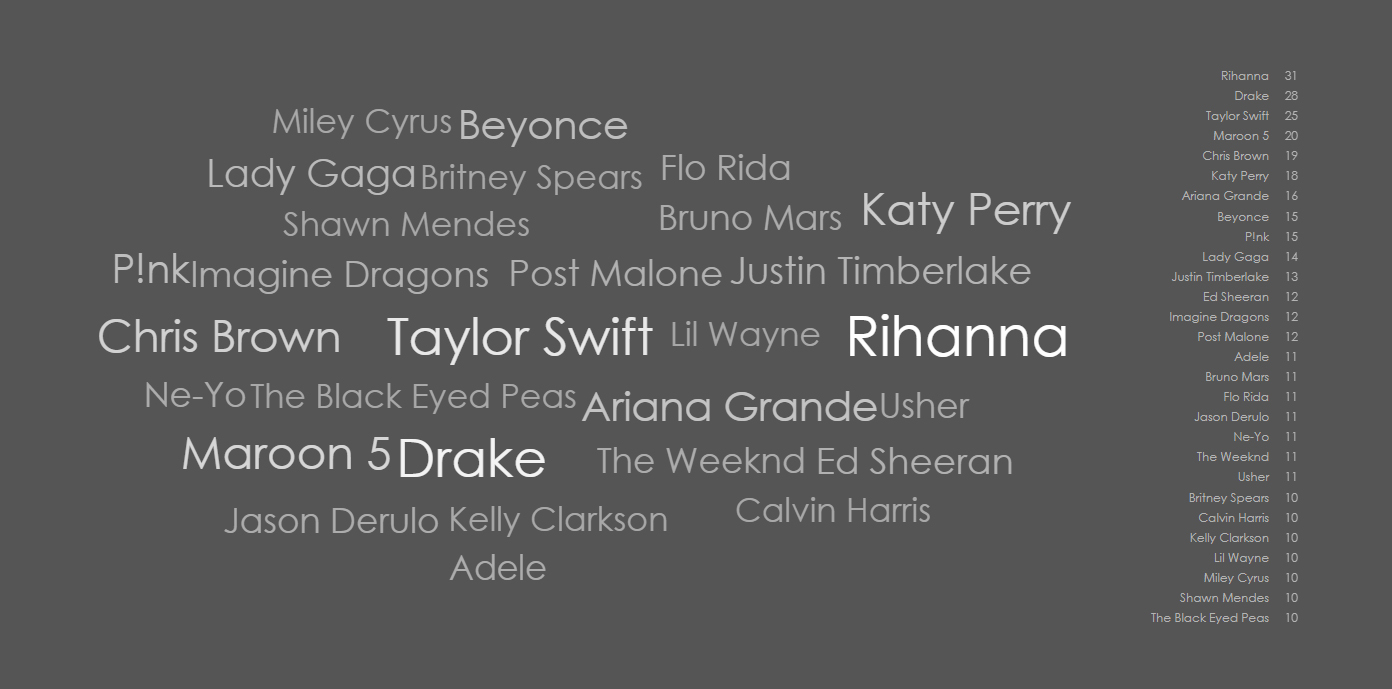

The page's visual inventory and layout, read from the dashboard file:
{"tool":"tableau","page":{"name":"02","canvas":[1000,1000],"units":"permille","ordinal":1},"visuals":[{"type":"worksheet","title":"cloud_artist","mark":"Text","box":[68.8,27,707.3,932.4]},{"type":"worksheet","title":"list_artist","mark":"Automatic","rows":["main_artist"],"box":[801.8,104.7,182.6,807.4]}]}

Visuals, with their boxes on the dashboard's canvas, which has no fixed pixel size, in thousandths of its width and height (x1, y1, x2, y2). These are canvas units, not pixel positions in the 1392x689 screenshot, which may show the page scaled, cropped or inside an application window:
"cloud_artist" worksheet (Text marks): {"x1": 69, "y1": 27, "x2": 776, "y2": 959}
"list_artist" worksheet: {"x1": 802, "y1": 105, "x2": 984, "y2": 912}
